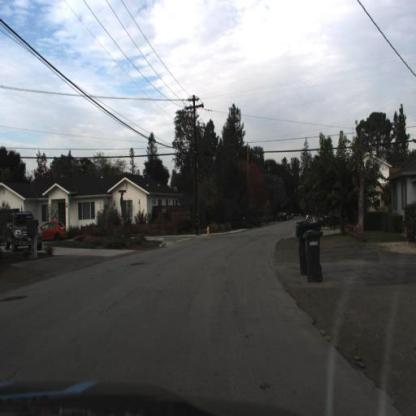car: (4, 209, 40, 255), (36, 214, 70, 249), (40, 218, 68, 239)
